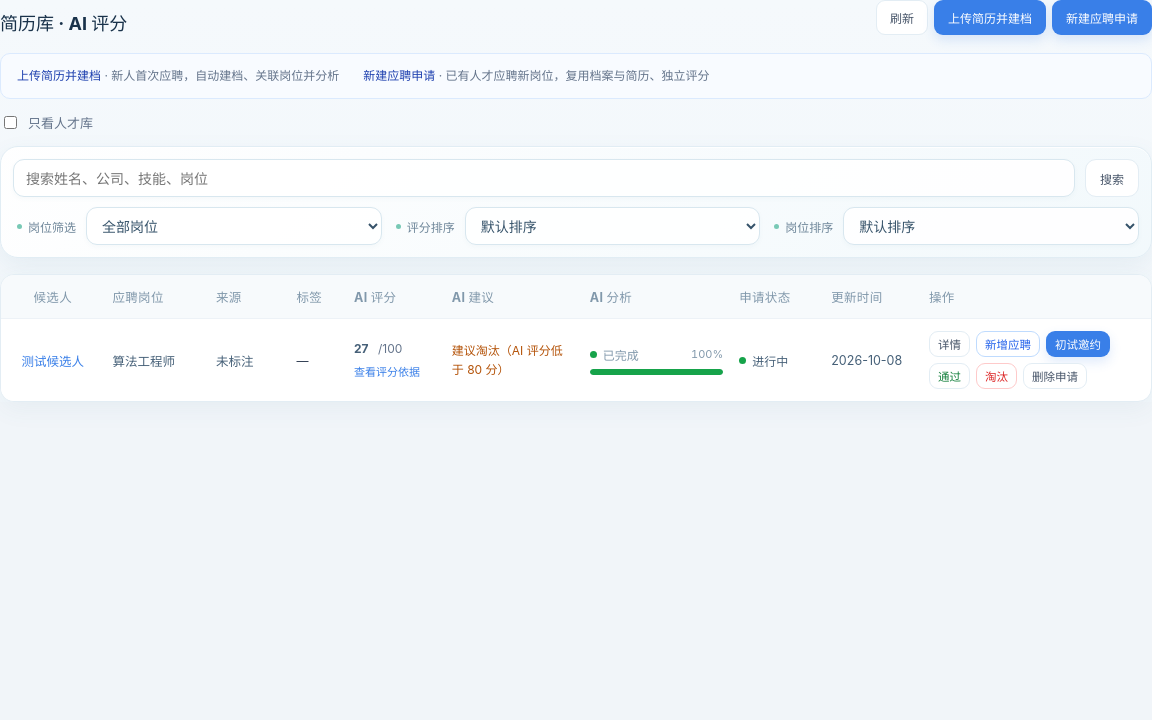
it: resume screening next step › offers the next step after confirming screening with AI score 27
Click the button with class "basis-link" at [387, 371], box [354,363,420,379]
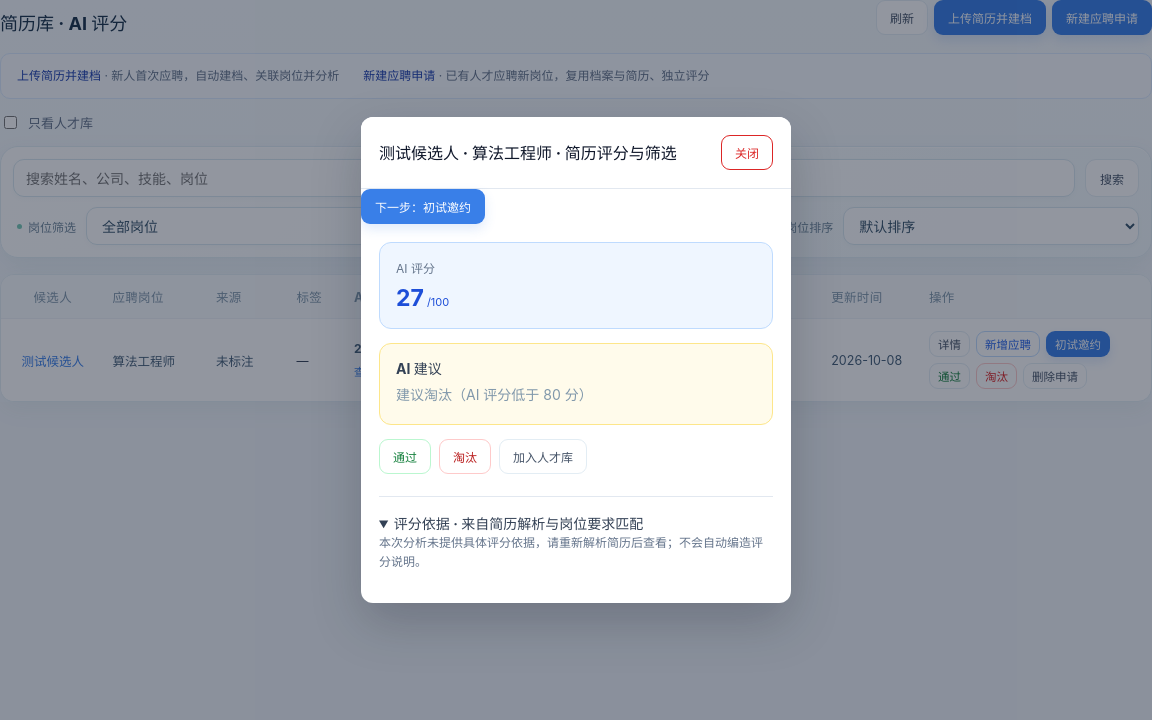
Click the button "通过" at [405, 456], box [379,439,431,474]
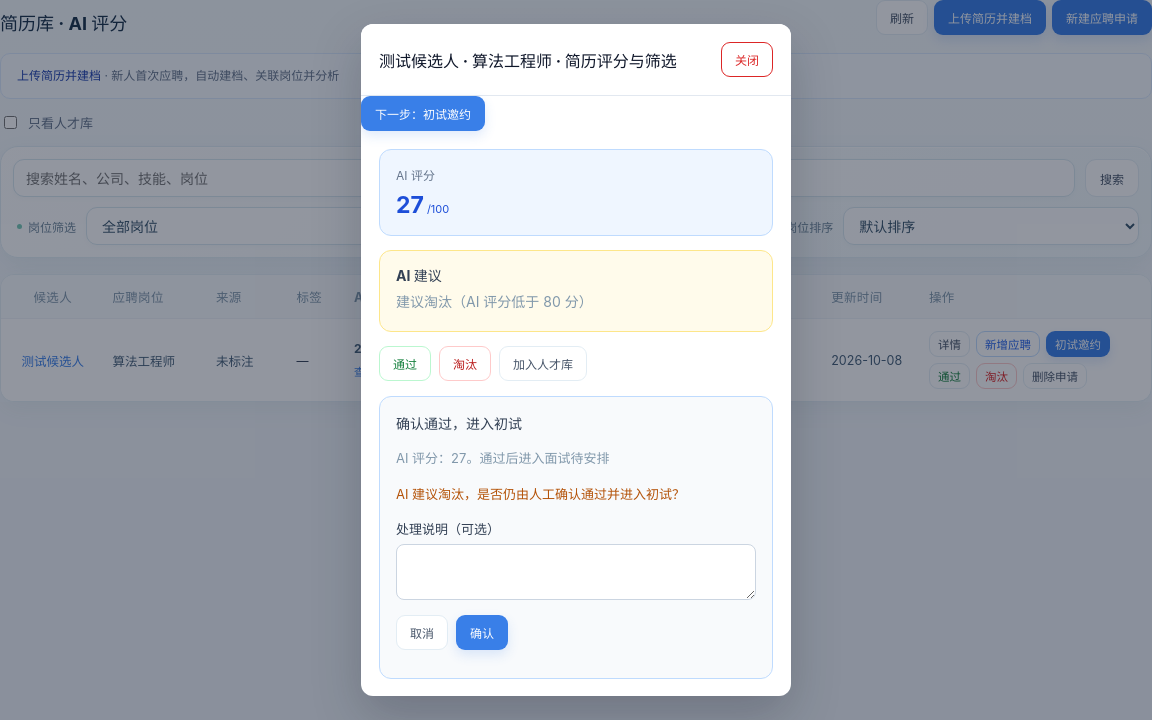
Click the button "确认" at [482, 633], box [456,615,508,650]
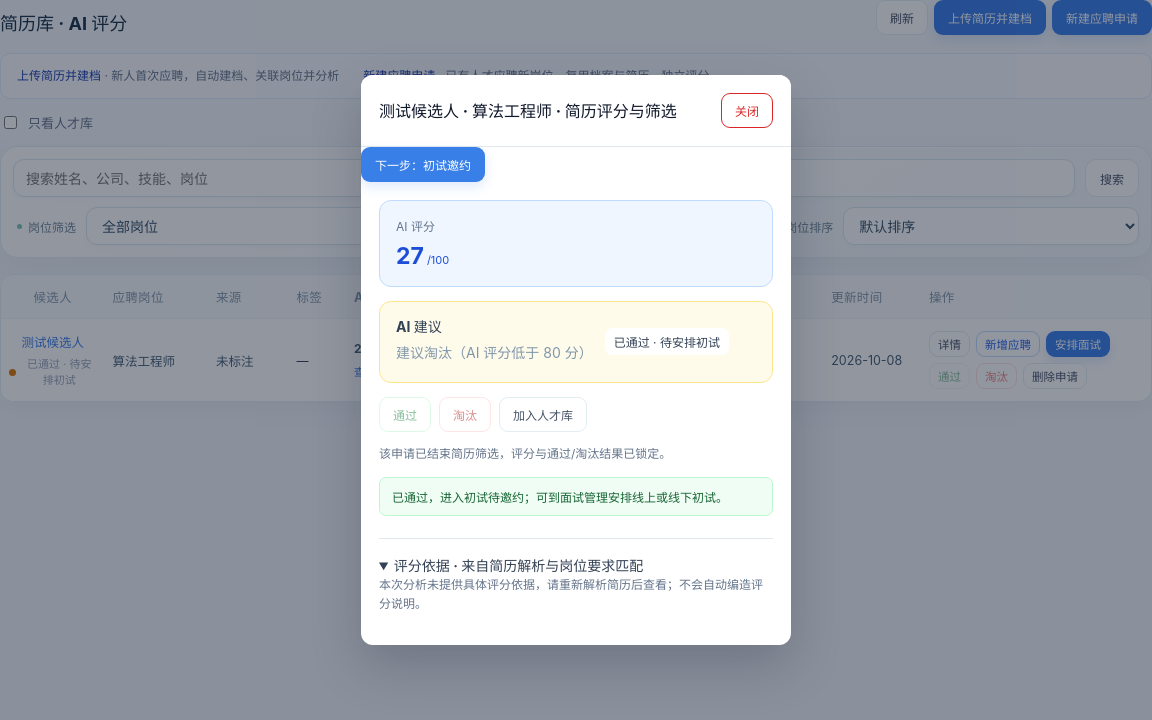
Result: the button "下一步：初试邀约" is shown
Click the button "下一步：初试邀约" at [423, 164], box [361,147,485,182]
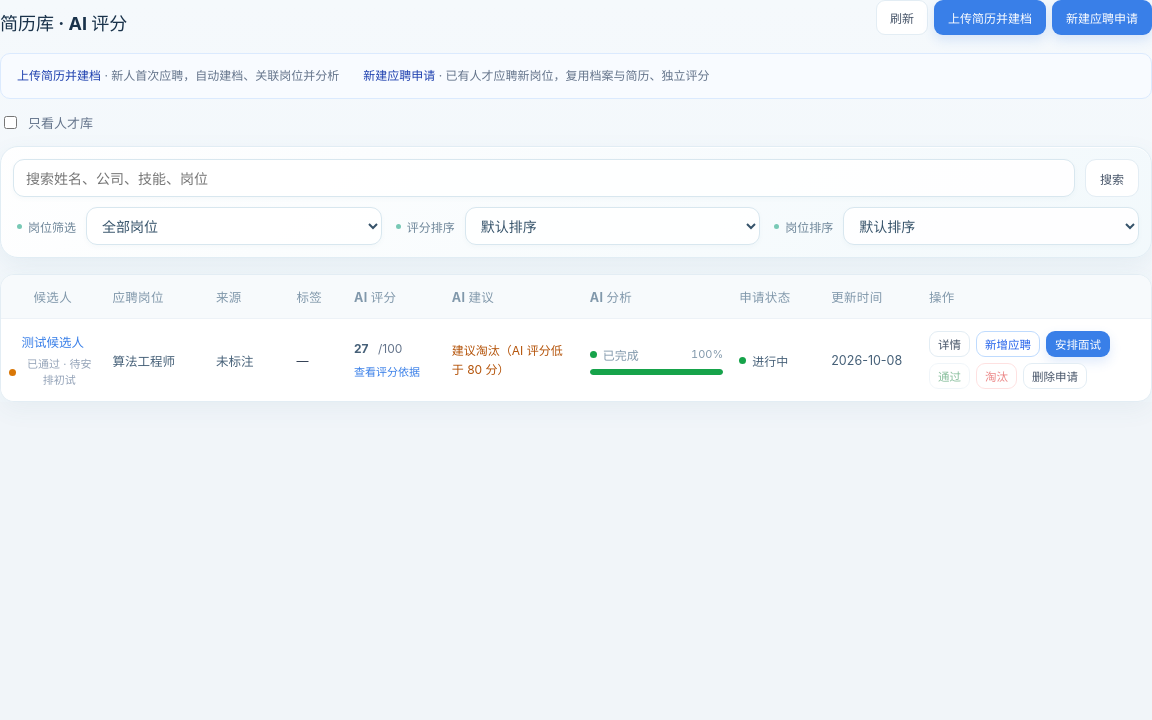
Result: the dialog is gone
